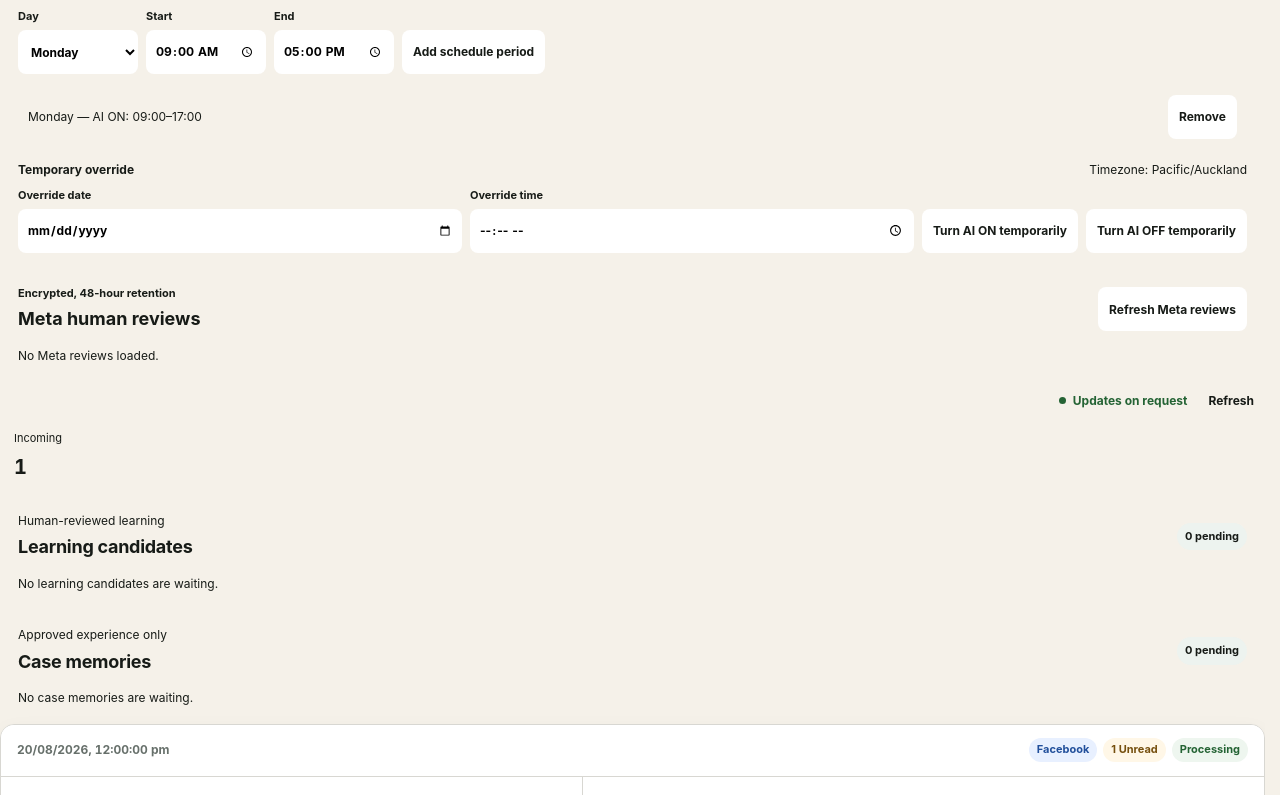
it: ReplyAssistantLiveDashboard › reports a failed manual refresh without starting a retry loop
(page scrolled)
Click the button with aria-label "Refresh conversations". click: [1231, 400]
box: [1197,383,1265,417]
Wait 15000 ms
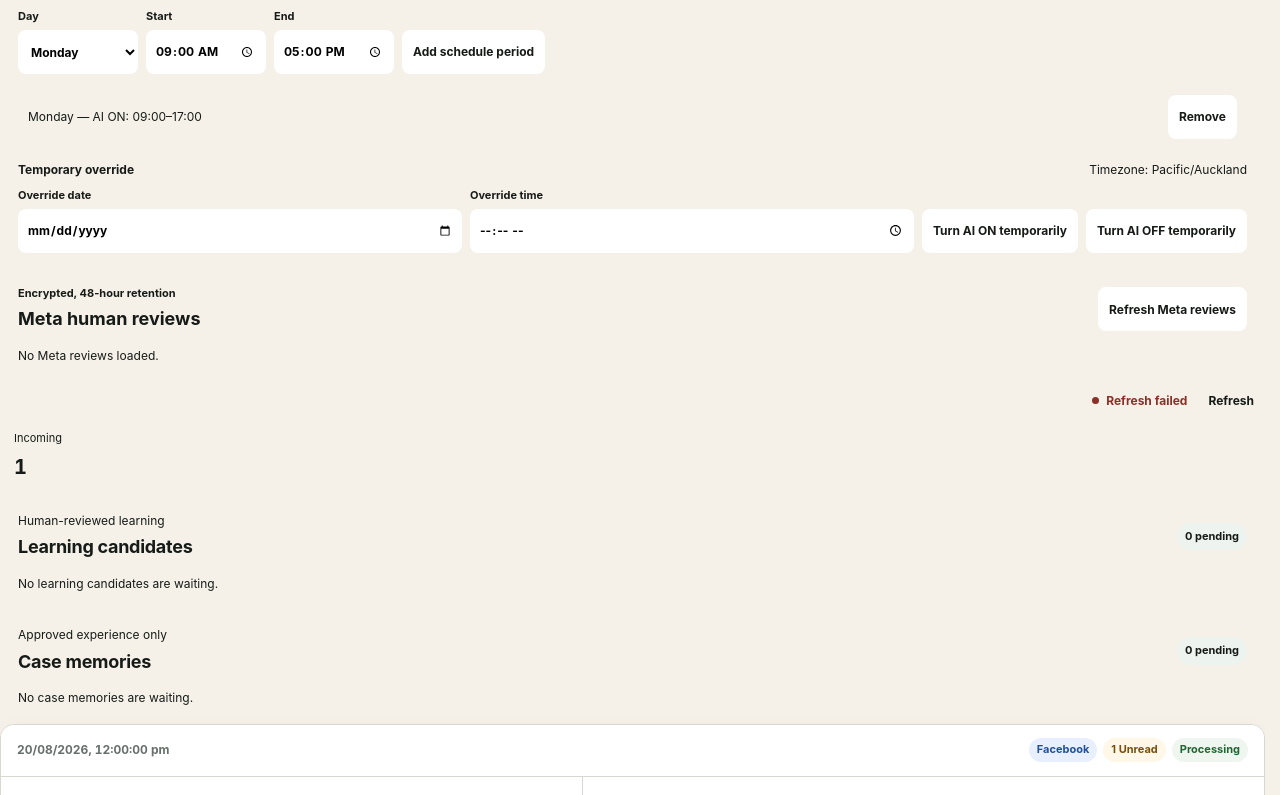
Result: the text "Refresh failed" is shown at [1092,391,1187,410]
